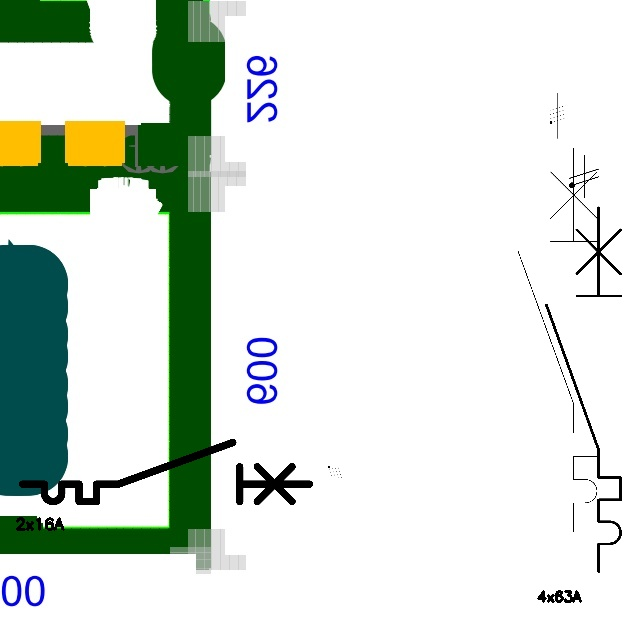interruptor_termomagnetico: (508, 138, 607, 541), (537, 198, 630, 581), (15, 435, 316, 509)
